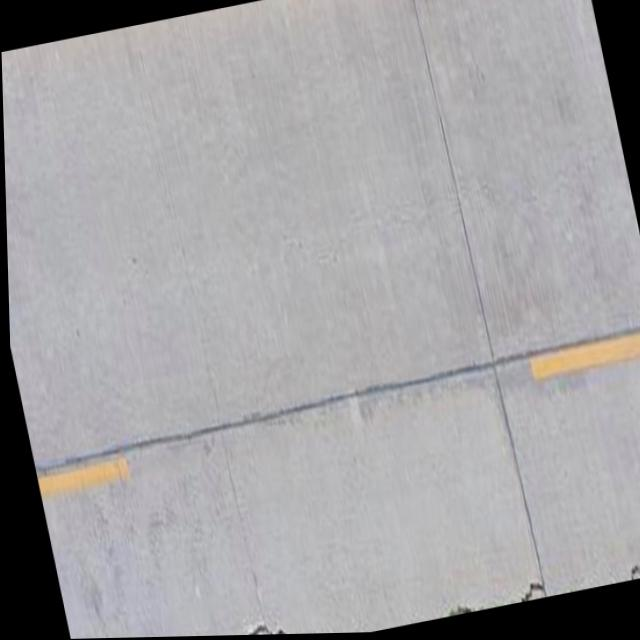Crack: (66, 558, 549, 639)
